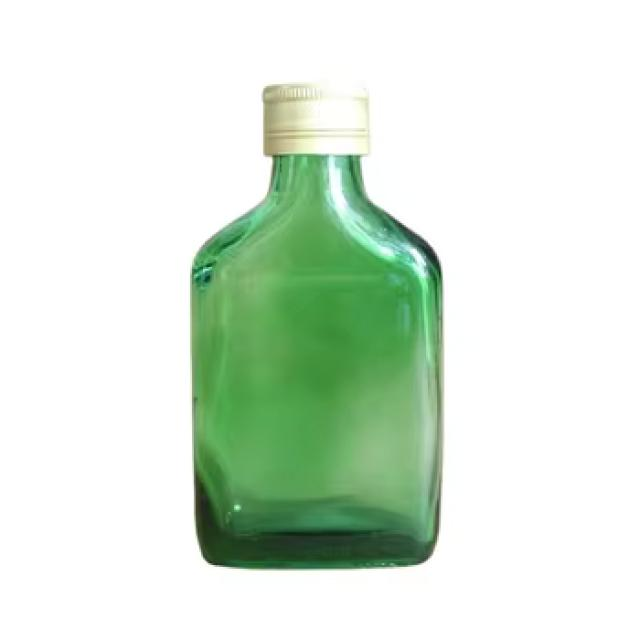Bottle: (186, 74, 447, 576)
